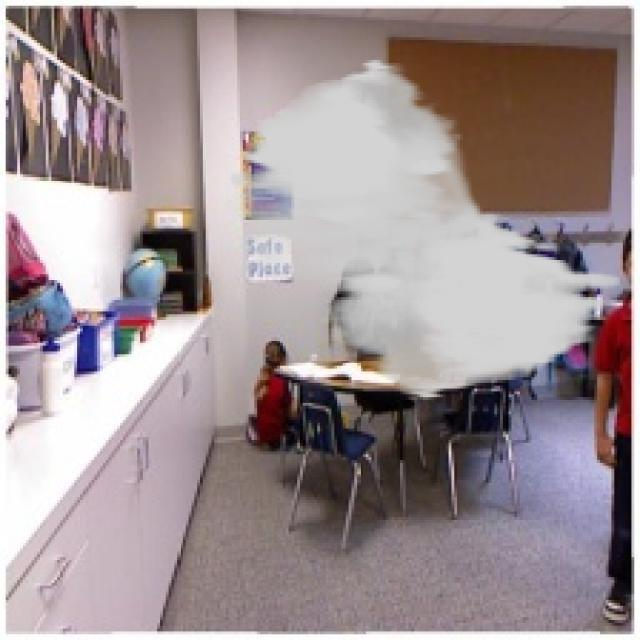Smoke: (228, 57, 620, 400)
